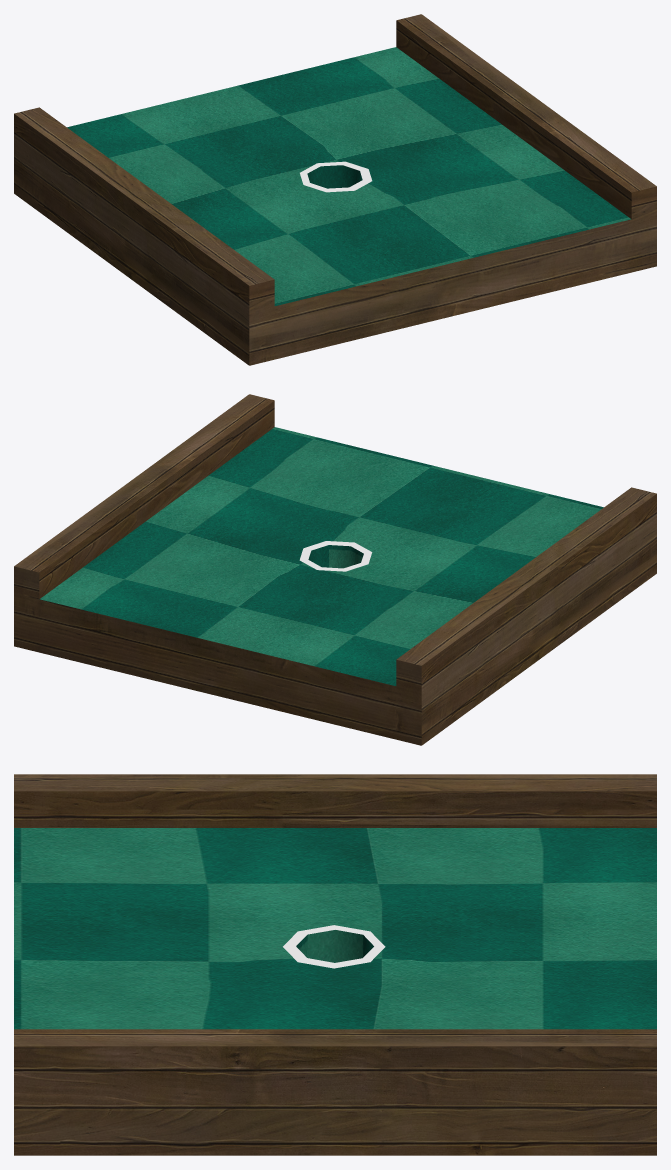
Rendered from End2.gltf.
The picture shows the model from 3 angles, top to bottom: view 1: azimuth 30°, elevation 25°; view 2: azimuth 150°, elevation 25°; view 3: azimuth 270°, elevation 25°; orthographic projection. The views are drawn at different scales.
Parts seen in each view (by area): view 1: End2_grass_glb, End2_wood_0101_glb; view 2: End2_grass_glb, End2_wood_0101_glb; view 3: End2_grass_glb, End2_wood_0101_glb.
Boxes of the visible parts, x1,y1,x2,y2 form: End2_grass_glb: [67, 47, 630, 305]; End2_wood_0101_glb: [14, 14, 656, 365]; End2_grass_glb: [40, 427, 603, 685]; End2_wood_0101_glb: [14, 394, 656, 745]; End2_grass_glb: [14, 828, 656, 1029]; End2_wood_0101_glb: [14, 774, 656, 1155].
Size of what is drawn, in the model's own units: 4 by 0.75 by 4.
Materials: 3 (2 with a texture image).
